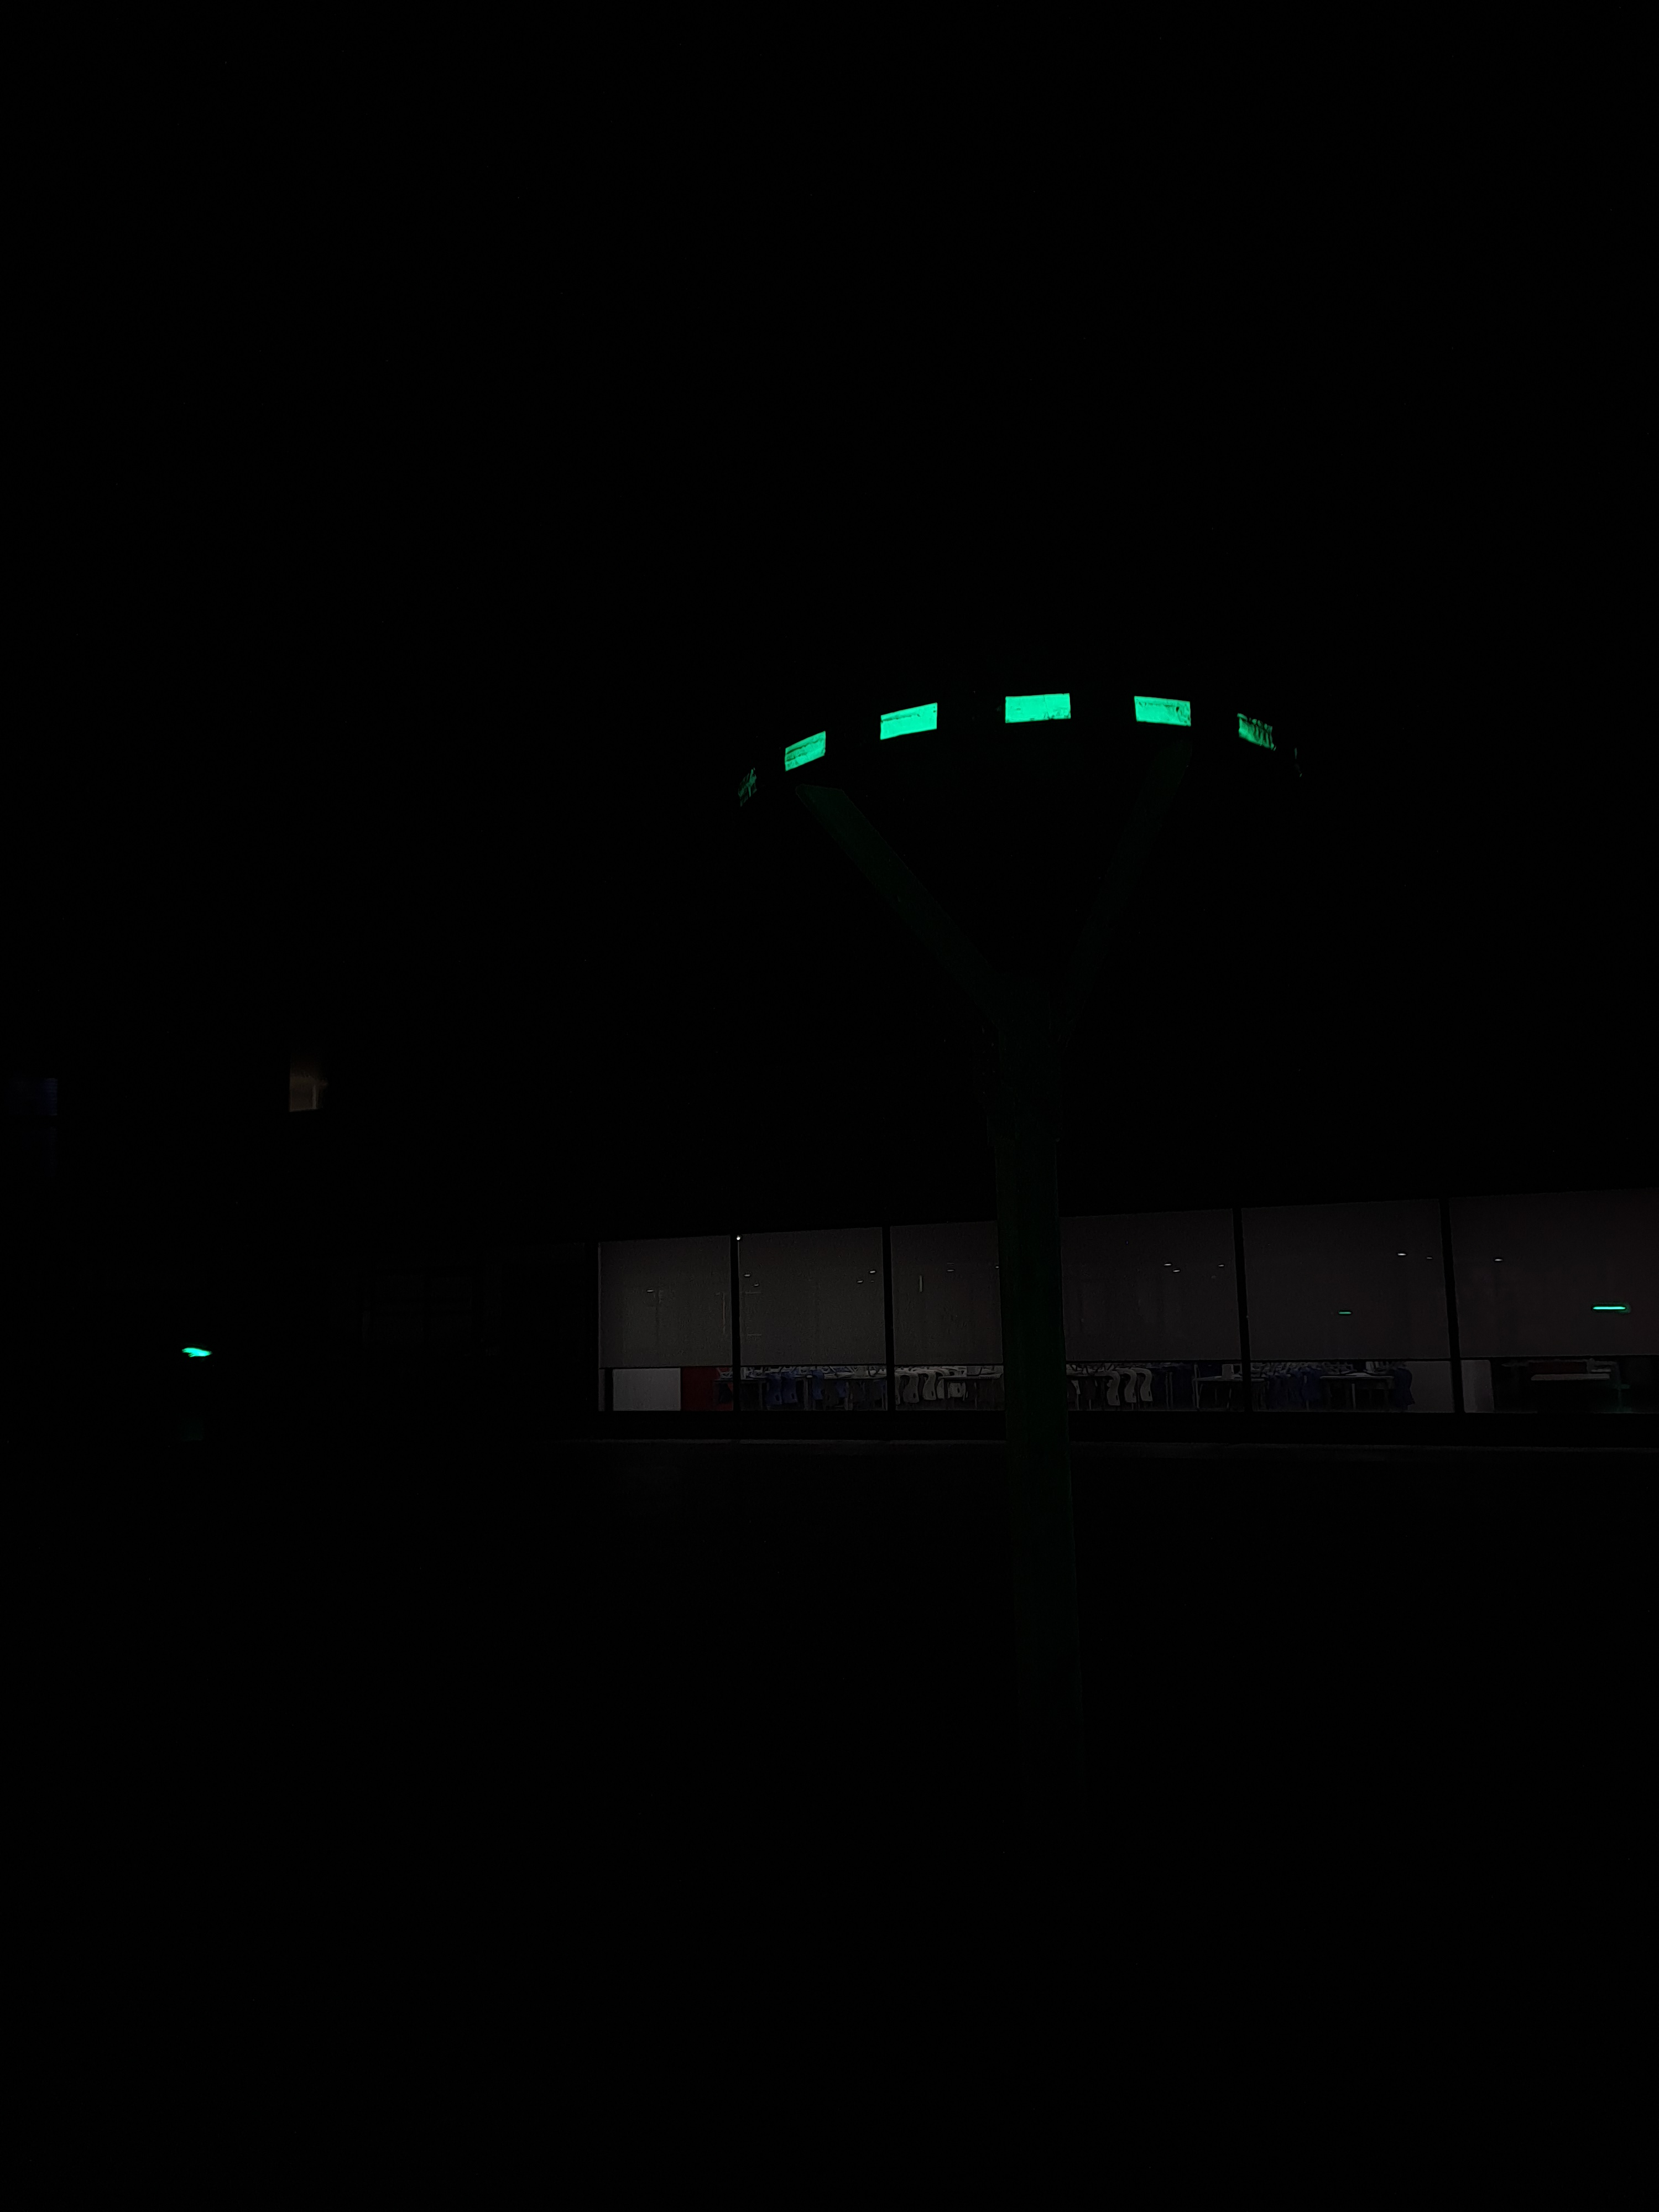hoop: (772, 685, 1283, 777)
